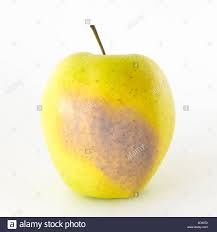damaged_apple: (44, 50, 176, 203)
